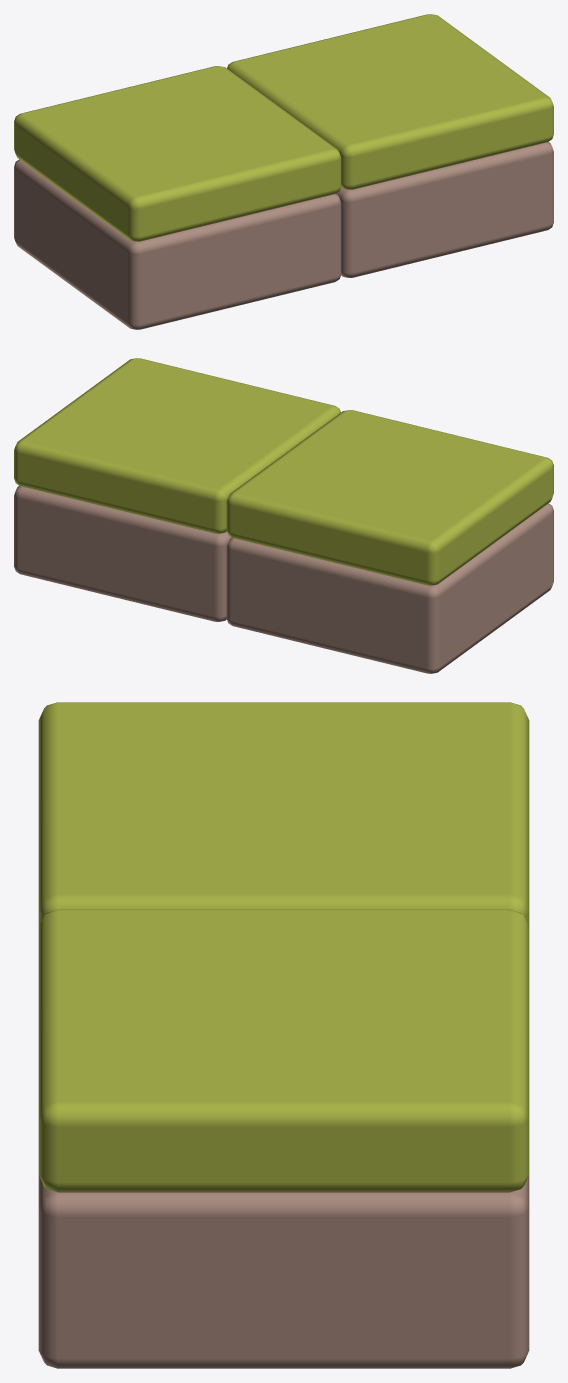
The picture shows the model from 3 angles, top to bottom: view 1: azimuth 30°, elevation 25°; view 2: azimuth 150°, elevation 25°; view 3: azimuth 270°, elevation 25°; orthographic projection. The views are drawn at different scales.
Parts seen in each view (by area): view 1: Cube.240; view 2: Cube.240; view 3: Cube.240.
Part boxes in pixels (x1,y1,x2,y2): Cube.240: [14, 14, 553, 329]; Cube.240: [14, 358, 553, 673]; Cube.240: [38, 702, 529, 1368].
Bounding box in the file's own units: 2 × 0.6001 × 1.
1 material, 1 textured.
